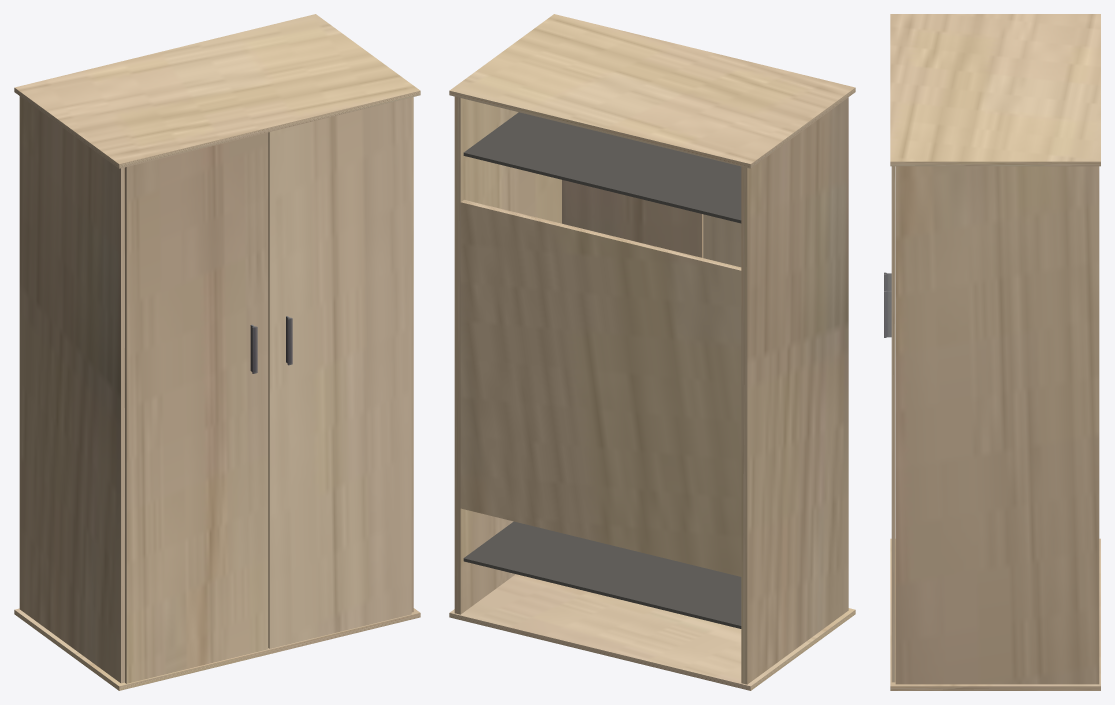
The model's file is cabuvok.fbx.
The picture shows the model from 3 angles, left to right: view 1: azimuth 30°, elevation 25°; view 2: azimuth 150°, elevation 25°; view 3: azimuth 270°, elevation 25°; orthographic projection.
Visible parts, largest first — view 1: pCube4, pasted__pCube4, pasted__pCube1, pCube3, pasted__pCube3, pasted__pasted__pCube1; view 2: pCube1, pasted__pCube1, pCube3, pasted__pCube3, pCube2, pasted__pCube2, pasted__pasted__pCube1, pasted__pCube4, pCube4; view 3: pasted__pasted__pCube1, pCube3, pasted__pCube4, pasted__pCube3, pCube5.
Boxes of the visible parts, x1=… form: pCube4: x1=125, y1=132, x2=268, y2=683; pasted__pCube4: x1=268, y1=97, x2=411, y2=648; pasted__pCube1: x1=19, y1=96, x2=124, y2=683; pCube3: x1=14, y1=14, x2=420, y2=168; pasted__pCube3: x1=14, y1=608, x2=420, y2=690; pasted__pasted__pCube1: x1=411, y1=97, x2=413, y2=612; pCube1: x1=460, y1=200, x2=741, y2=576; pasted__pCube1: x1=741, y1=97, x2=848, y2=684; pCube3: x1=449, y1=14, x2=855, y2=168; pasted__pCube3: x1=449, y1=574, x2=855, y2=690; pCube2: x1=463, y1=112, x2=741, y2=223; pasted__pCube2: x1=463, y1=521, x2=741, y2=628; pasted__pasted__pCube1: x1=454, y1=96, x2=561, y2=614; pasted__pCube4: x1=562, y1=180, x2=703, y2=257; pCube4: x1=703, y1=214, x2=741, y2=267; pasted__pasted__pCube1: x1=895, y1=166, x2=1099, y2=684; pCube3: x1=890, y1=14, x2=1100, y2=166; pasted__pCube4: x1=891, y1=166, x2=895, y2=682; pasted__pCube3: x1=890, y1=538, x2=1100, y2=690; pCube5: x1=884, y1=289, x2=891, y2=337.
Bounding box in the file's own units: 103 × 172 × 63.9.
3 materials, 2 textured.
